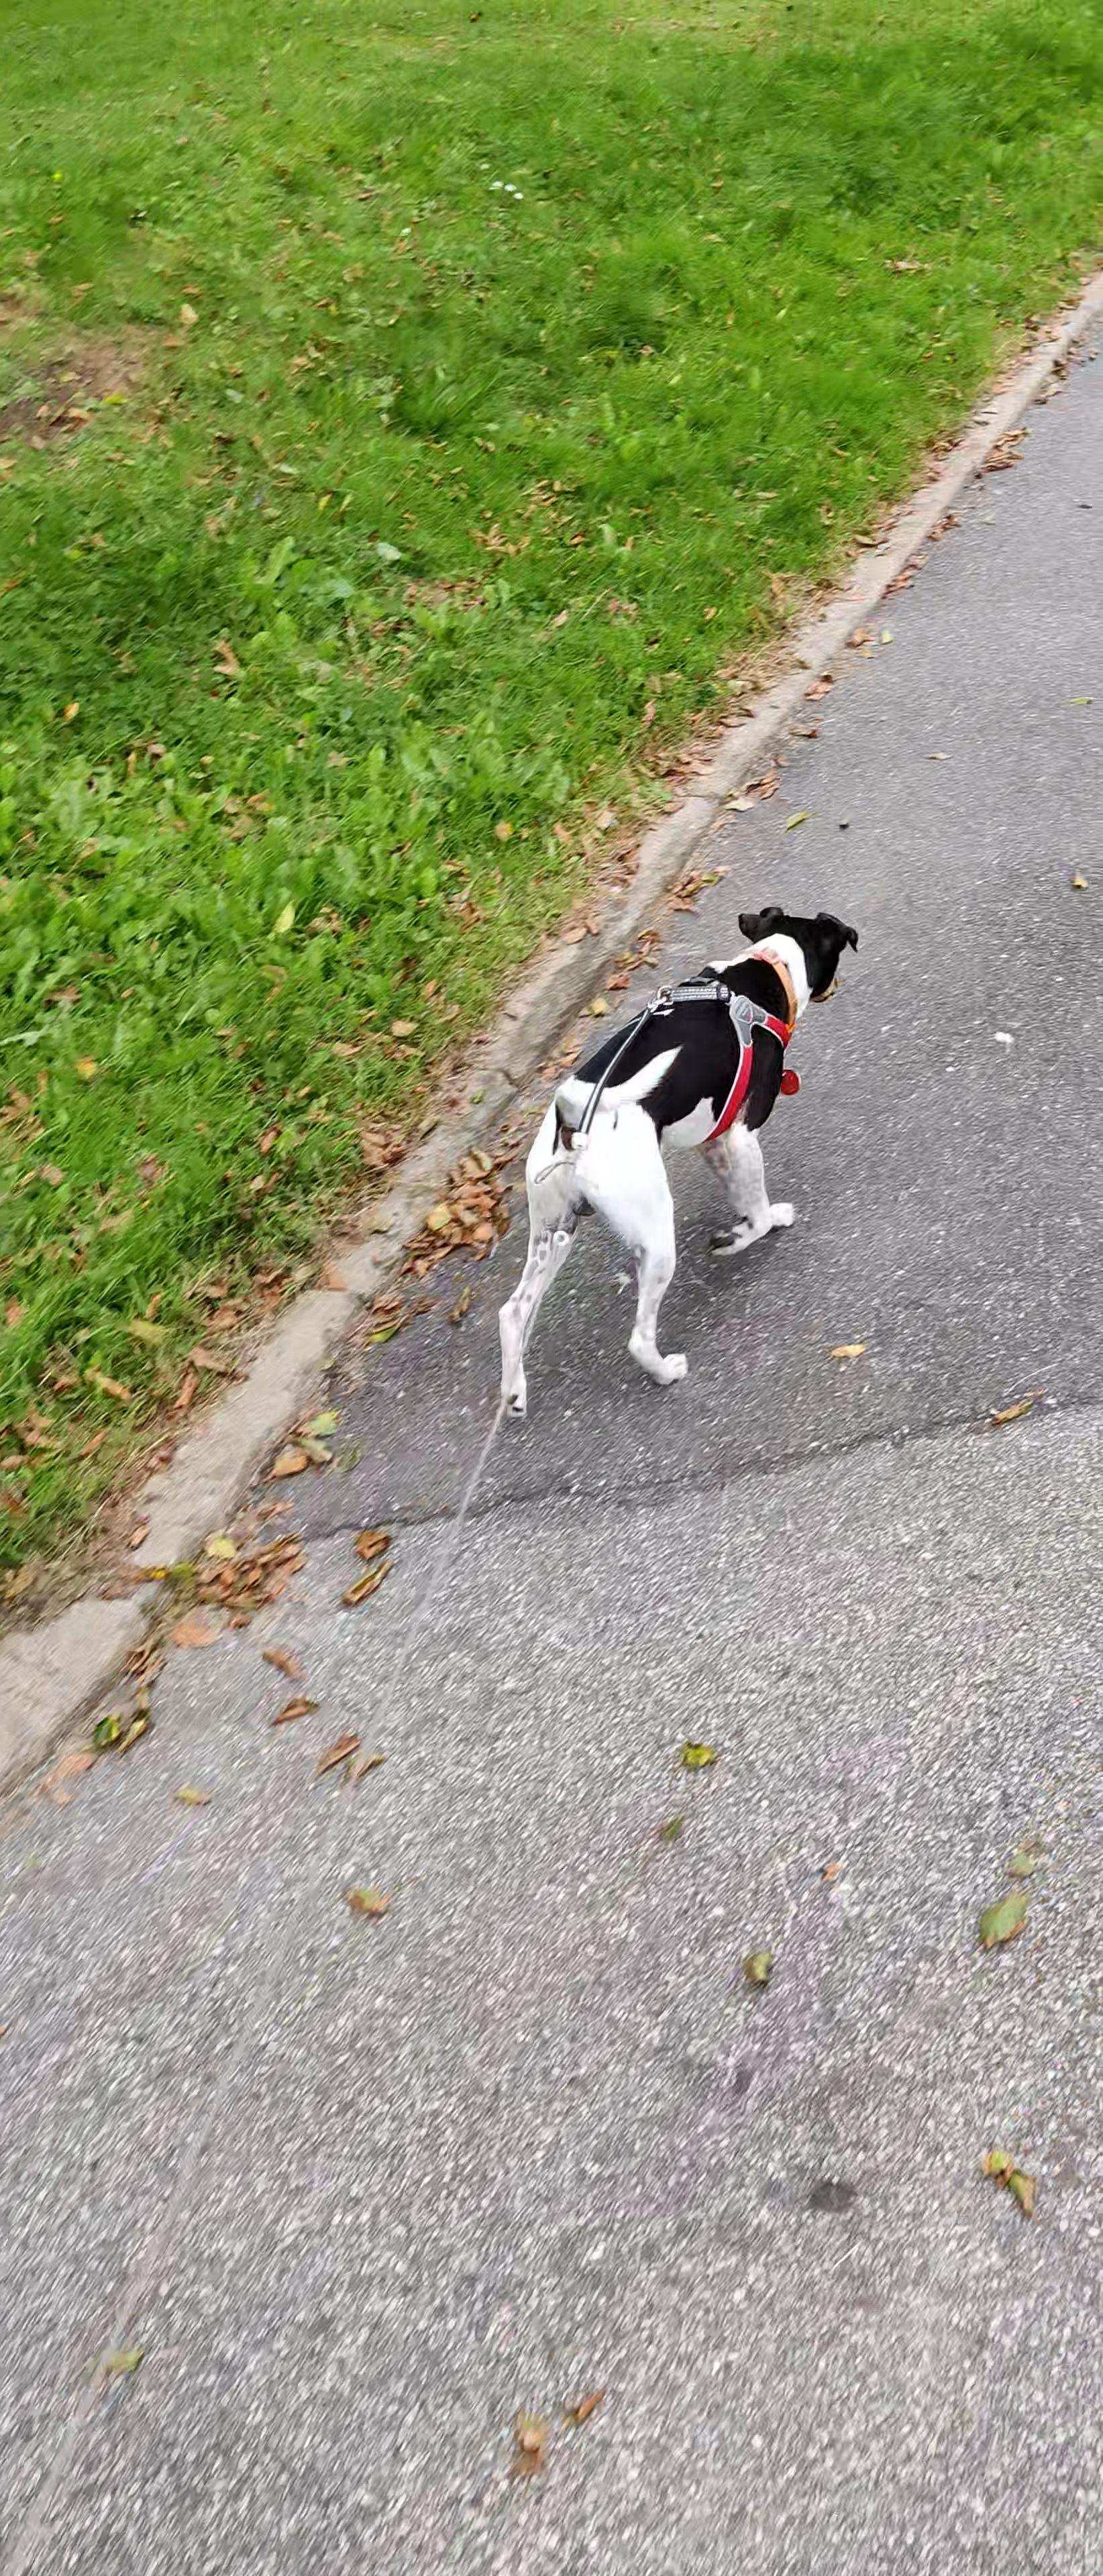Dog: (493, 900, 865, 1428)
